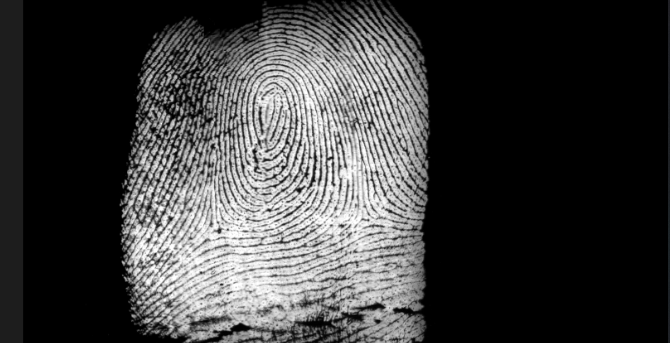nucelo: (257, 86, 291, 132)
verticilo: (349, 204, 374, 232), (198, 216, 228, 237)
